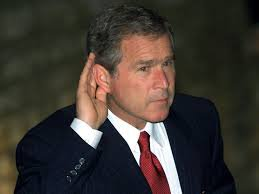noMask: (84, 10, 196, 126)
